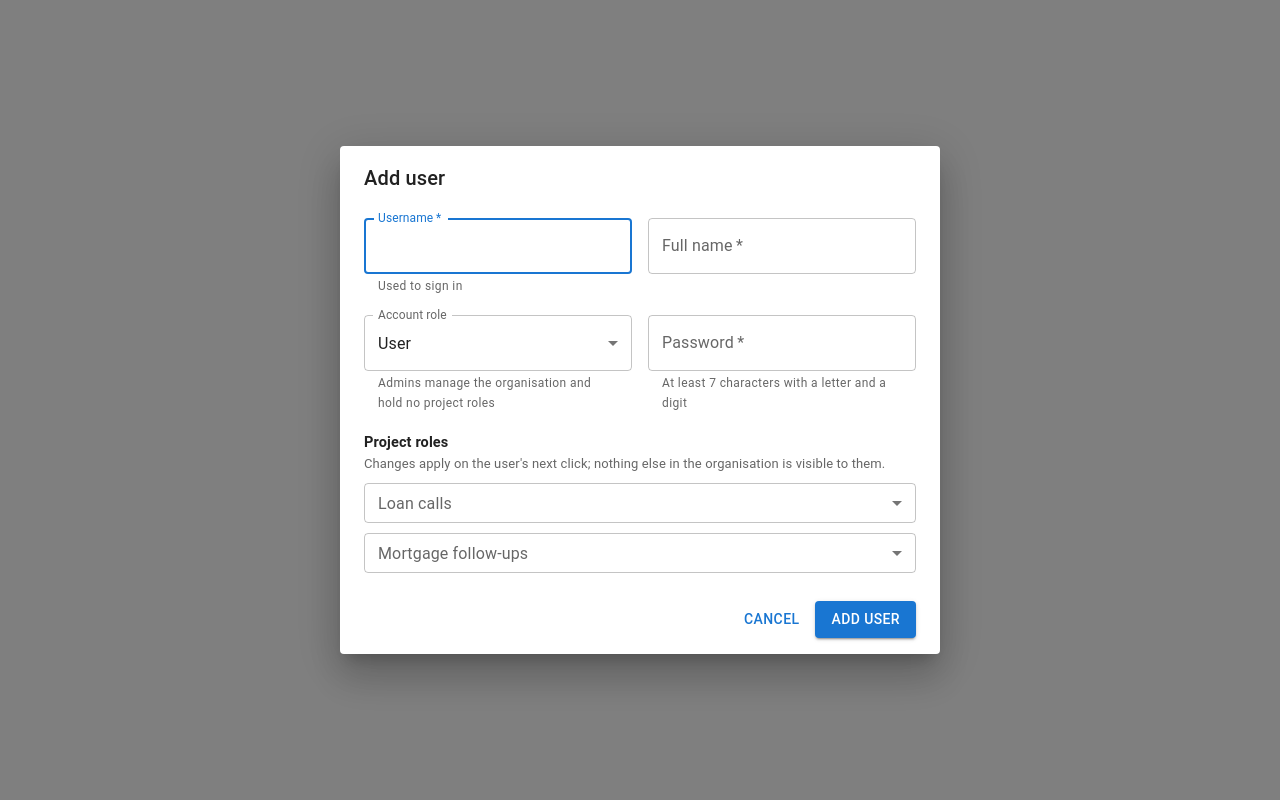
Test case: user dialog › marks every invalid field red and sends nothing
This screenshot has width=1280, height=800.
Type "A!" into the field labelled "Username *" at (498, 246), box [364,218,632,274]
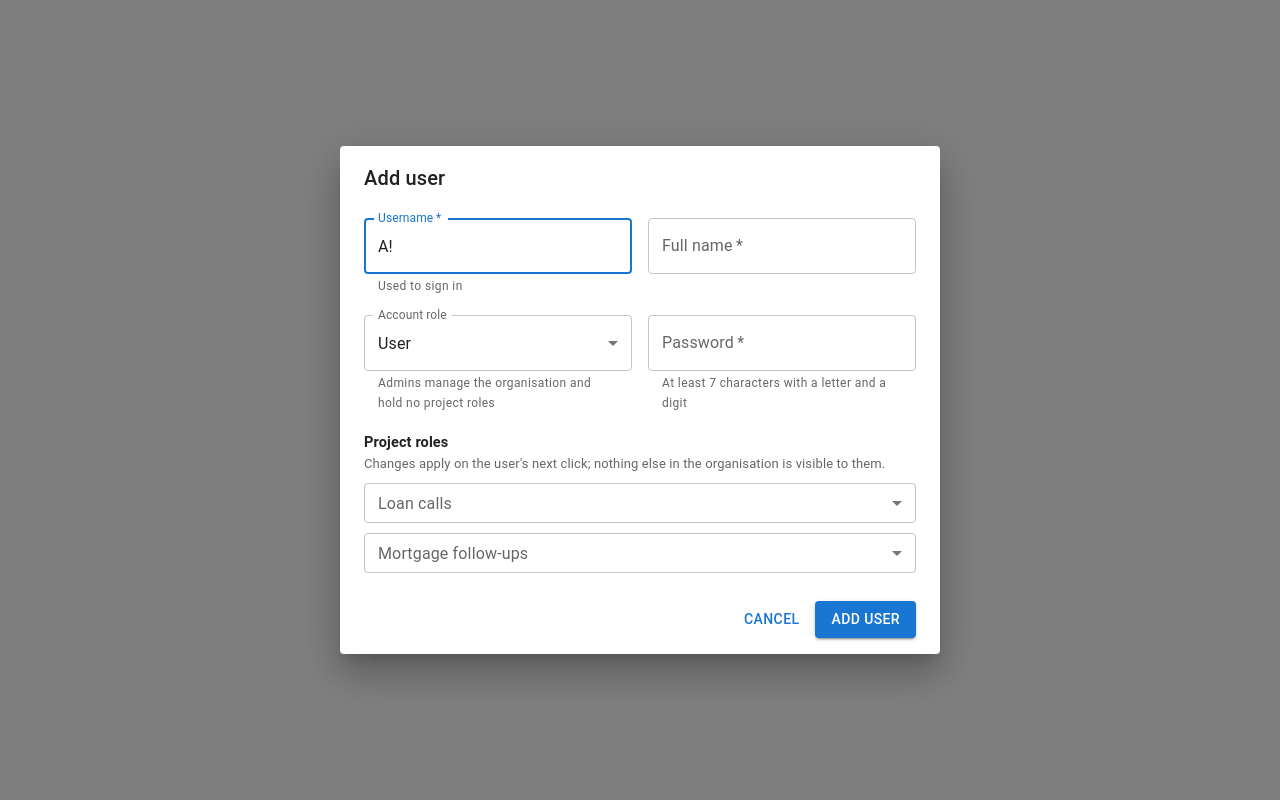
Type "short" into the password field labelled "Password *" at (782, 343), box [648,315,916,371]
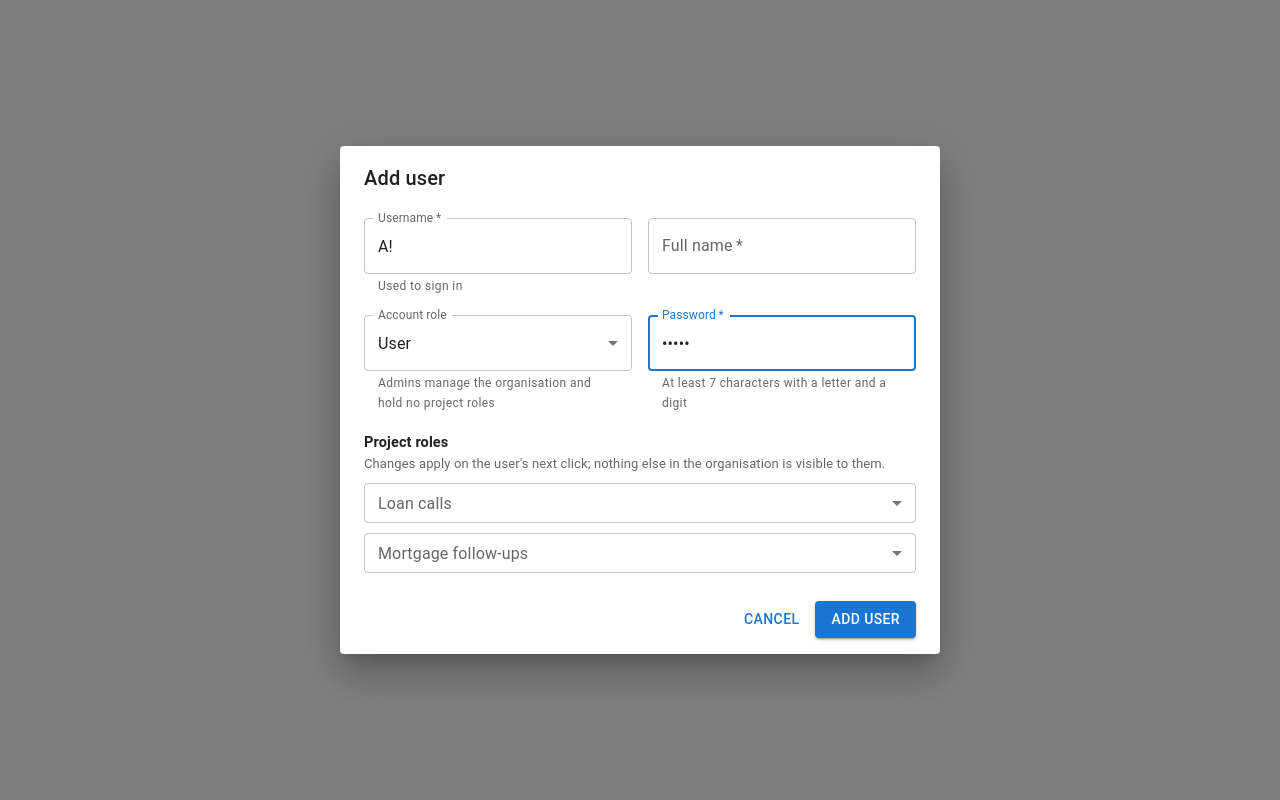
Click the button "Add user" at (866, 619), box [816,601,916,638]
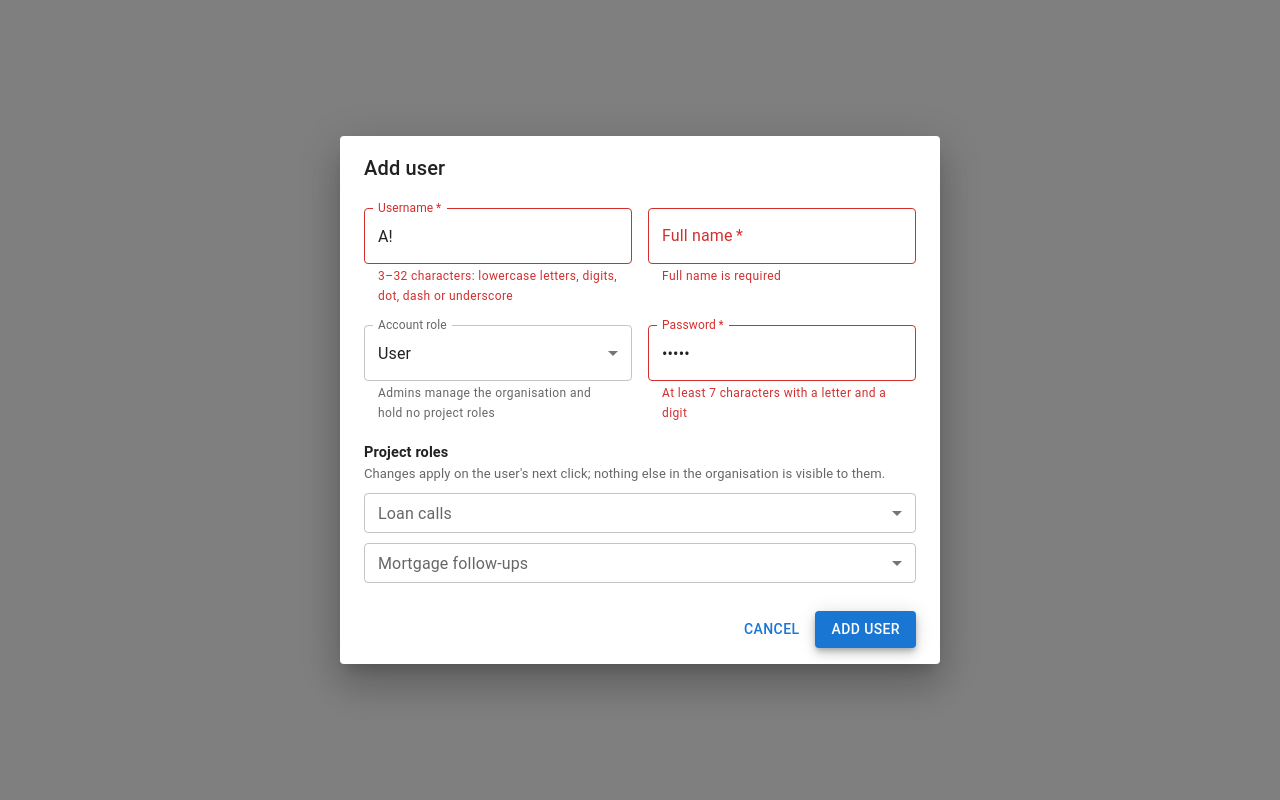
Expected: the text "Full name is required" is shown, [662,269,781,283]
